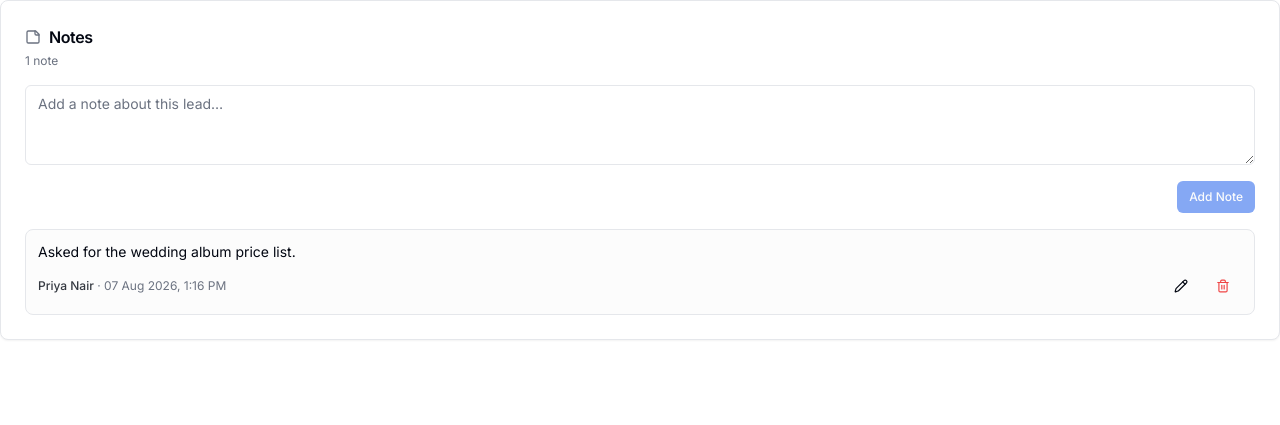
Test: LeadNotesSection › abandons an edit on cancel
This screenshot has width=1280, height=425.
Click the button with test id "note-edit-note-1".
click(1181, 286)  # box [1162, 270, 1200, 302]
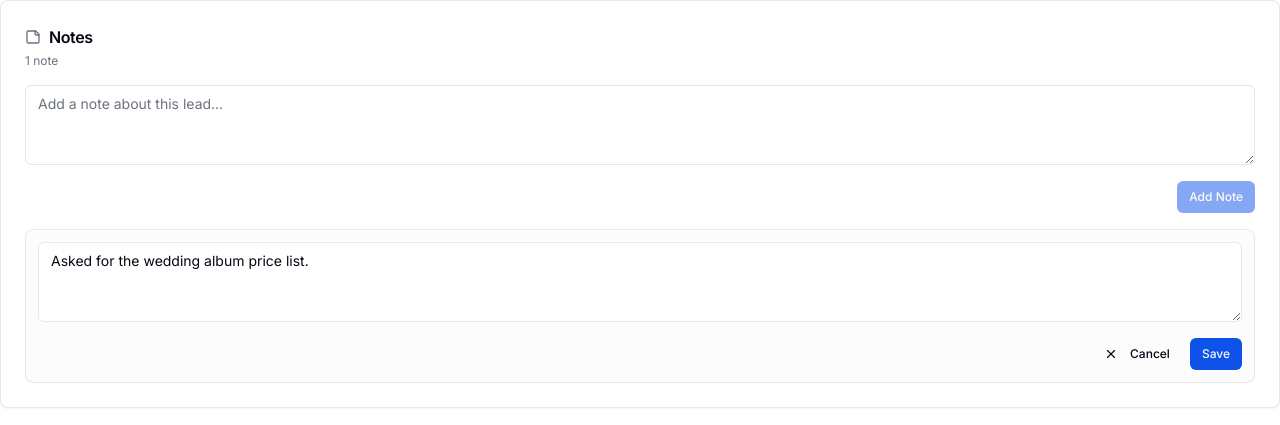
Replace the text in the text box with test id "note-edit-input" with "discarded" at (640, 282), box [38, 242, 1242, 322]
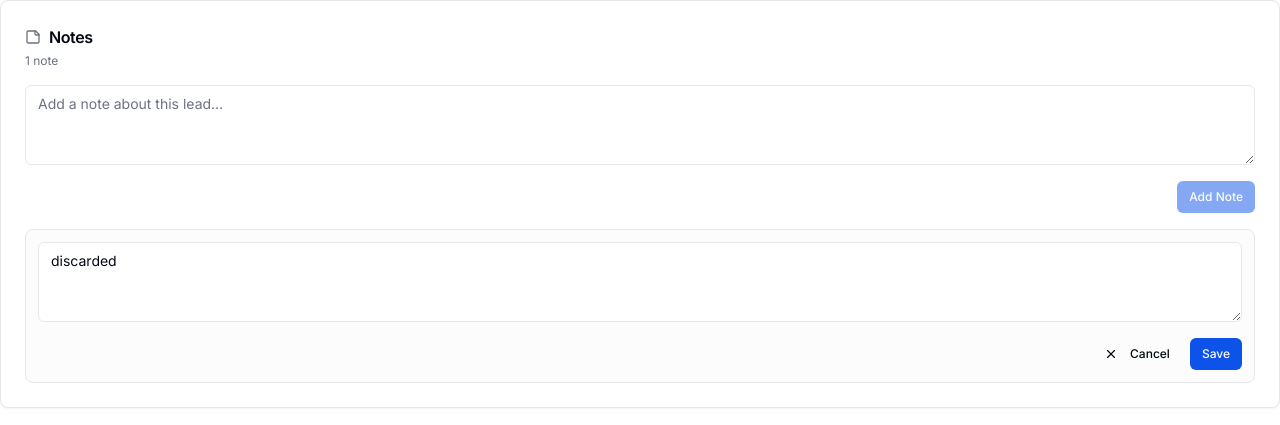
Click the button with test id "note-edit-cancel".
click(1137, 354)  # box [1092, 338, 1182, 370]
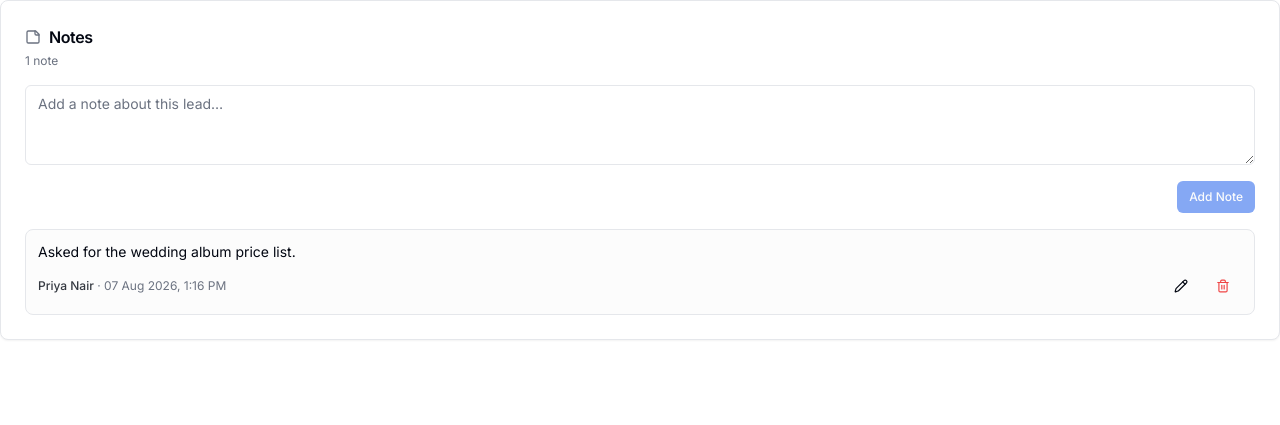
Now the text box with test id "note-edit-input" is gone
